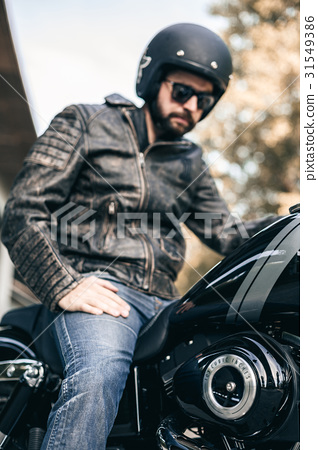helmet: (134, 17, 241, 96)
